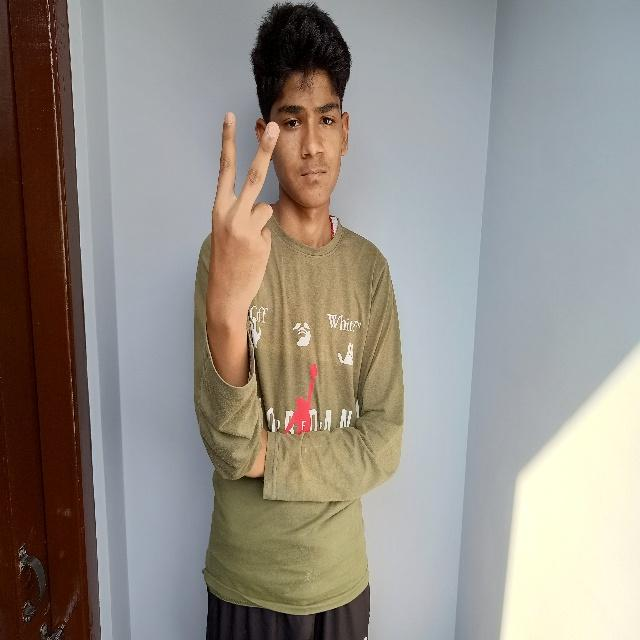Reversed Victory: (203, 103, 283, 345)
